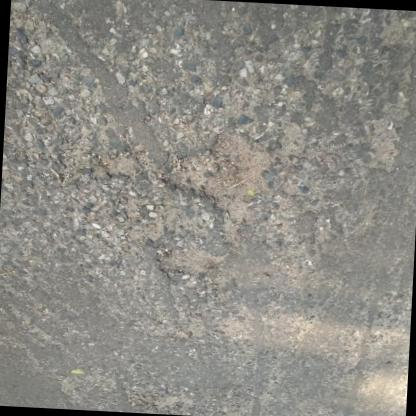pothole: (155, 128, 273, 226), (152, 243, 224, 280), (95, 152, 138, 180)
